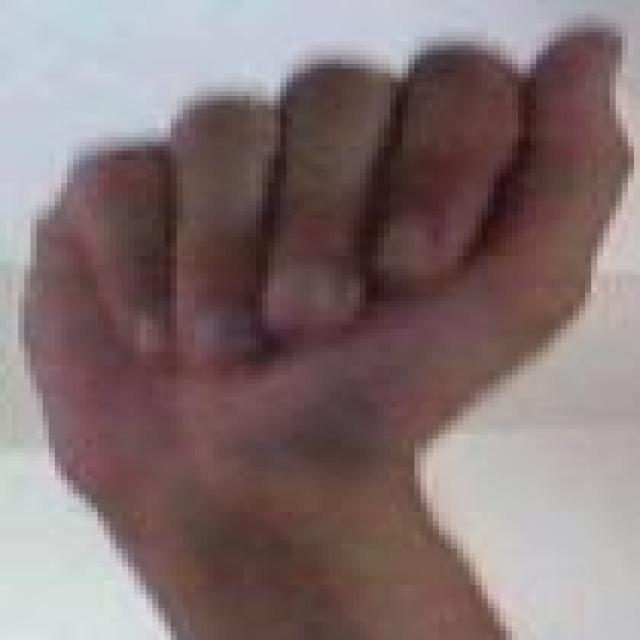A: (7, 9, 631, 606)
